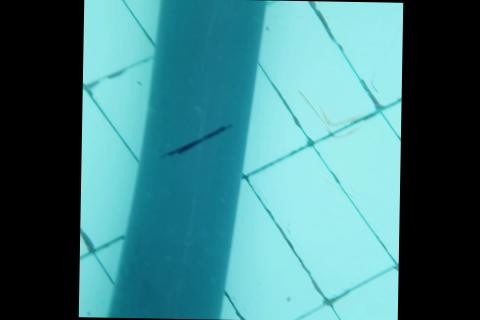keretakan: (157, 121, 232, 160)
